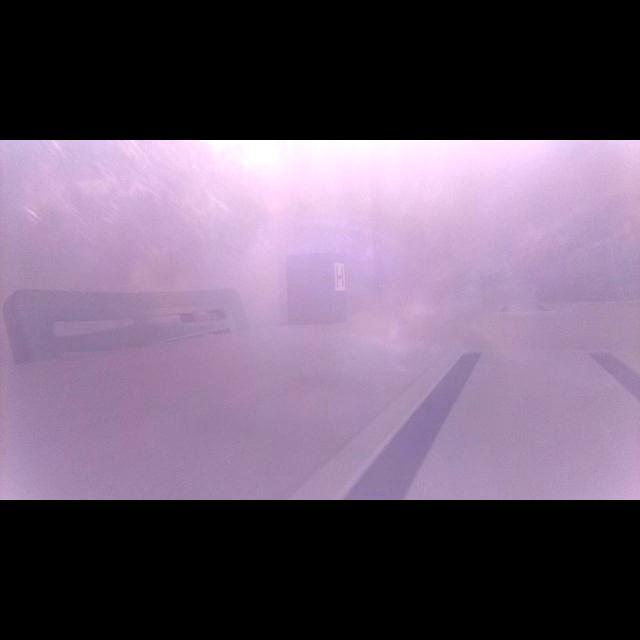H: (336, 265, 344, 288)
